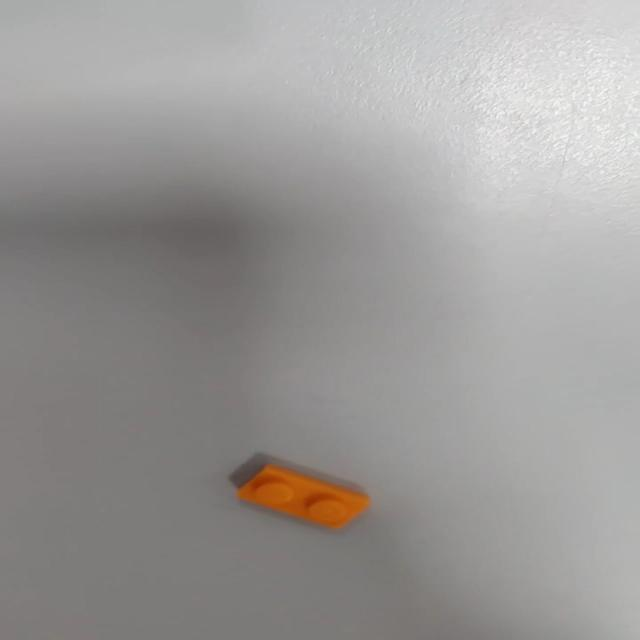C2x1x0: (231, 454, 376, 530)
